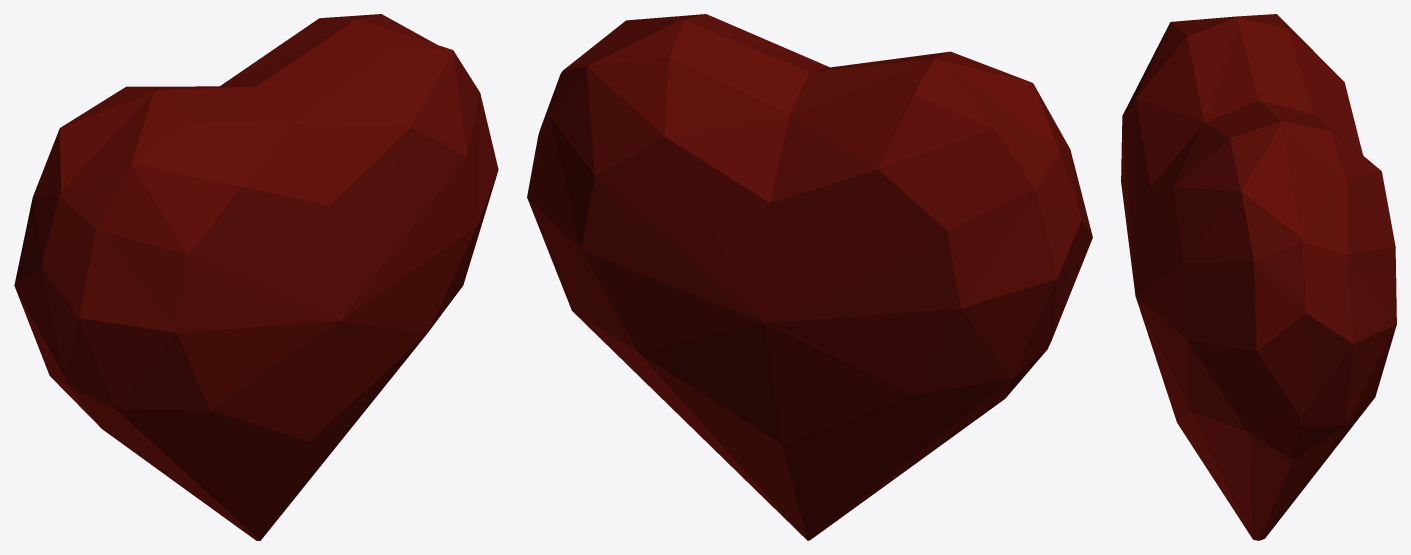
Rendered from Power_Up.fbx.
3 views of the same model, side by side, from view 1: azimuth 30°, elevation 25°; view 2: azimuth 150°, elevation 25°; view 3: azimuth 270°, elevation 25° (orthographic). The views are drawn at different scales.
Parts seen in each view (by area): view 1: Cloner_1; view 2: Cloner_1; view 3: Cloner_1.
Boxes of the visible parts, left/top/right/bottom form: Cloner_1: left=14, top=14, right=498, bottom=540; Cloner_1: left=527, top=14, right=1092, bottom=540; Cloner_1: left=1121, top=14, right=1396, bottom=540.
Bounding box in the file's own units: 36.76 × 35.43 × 18.79.
